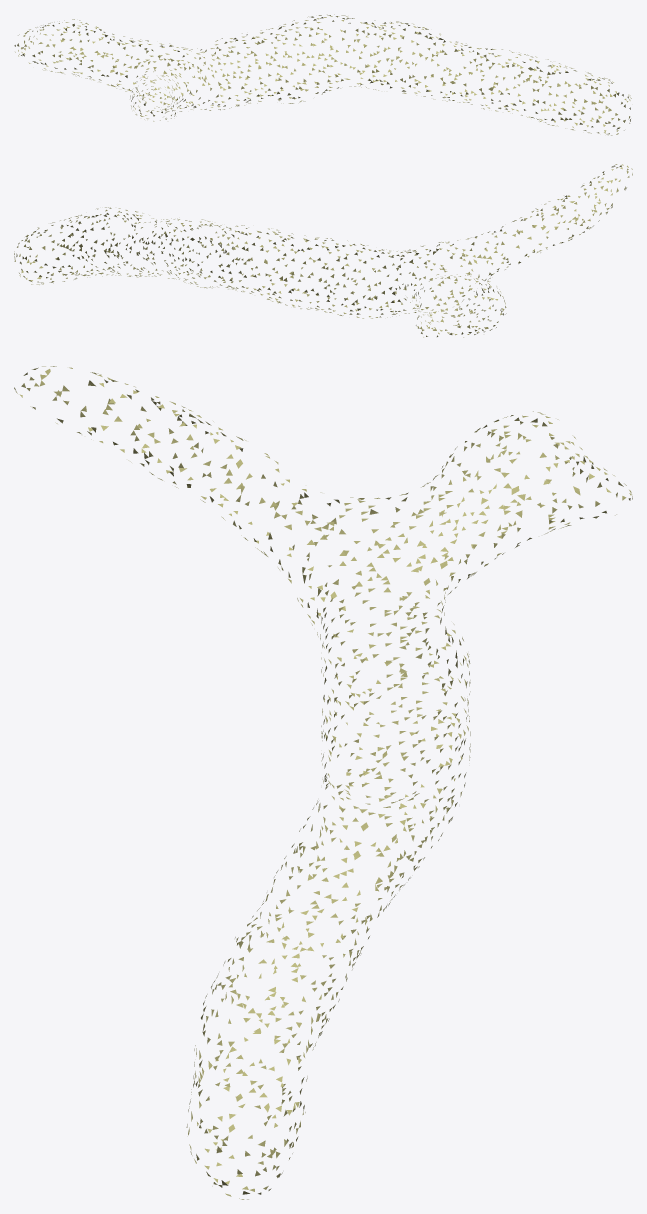
Rendered from morph_009.glb.
3 views of the same model, one above another, from view 1: azimuth 30°, elevation 25°; view 2: azimuth 150°, elevation 25°; view 3: azimuth 270°, elevation 25° (orthographic). The views are drawn at different scales.
Bounding box in the file's own units: 112 × 38.83 × 59.18.
